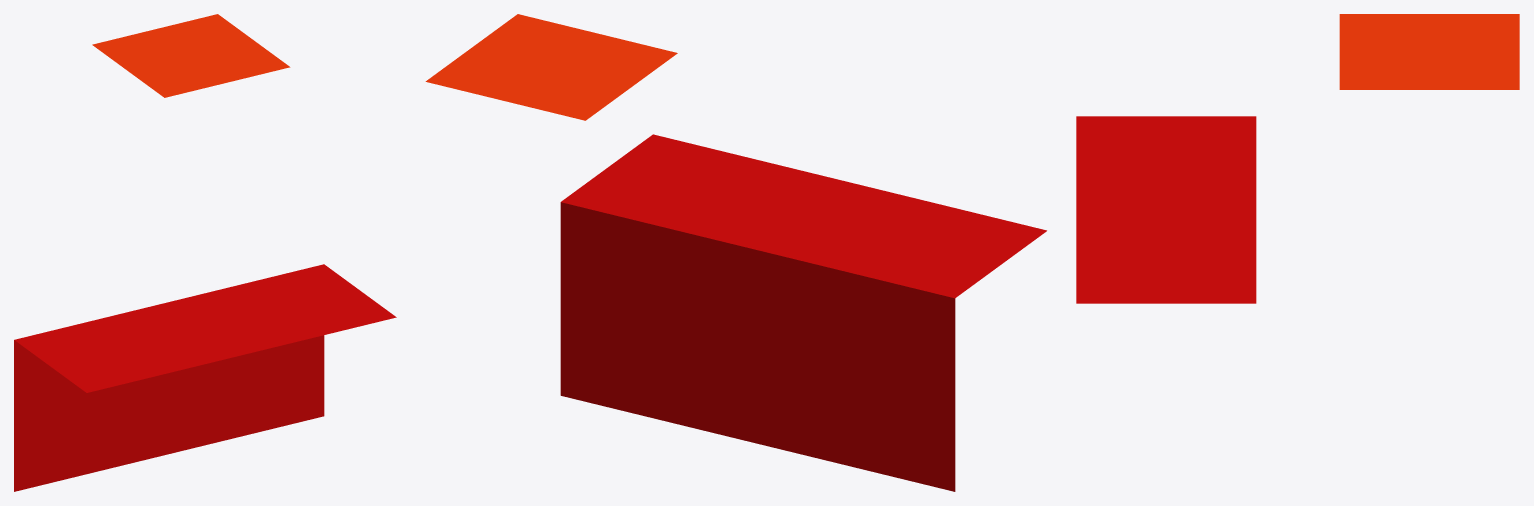
3 renders of one model, left to right at view 1: azimuth 30°, elevation 25°; view 2: azimuth 150°, elevation 25°; view 3: azimuth 270°, elevation 25°, orthographic. The views are drawn at different scales.
Visible parts, largest first — view 1: None_S_E_E_A_A_E_A_A_None; view 2: None_S_E_E_A_A_E_A_A_None; view 3: None_S_E_E_A_A_E_A_A_None.
Part boxes in pixels (x1,y1,x2,y2): None_S_E_E_A_A_E_A_A_None: [14, 14, 396, 491]; None_S_E_E_A_A_E_A_A_None: [425, 14, 1046, 491]; None_S_E_E_A_A_E_A_A_None: [1076, 14, 1519, 303].
Size of the model in its own units: 100 by 100 by 100.
